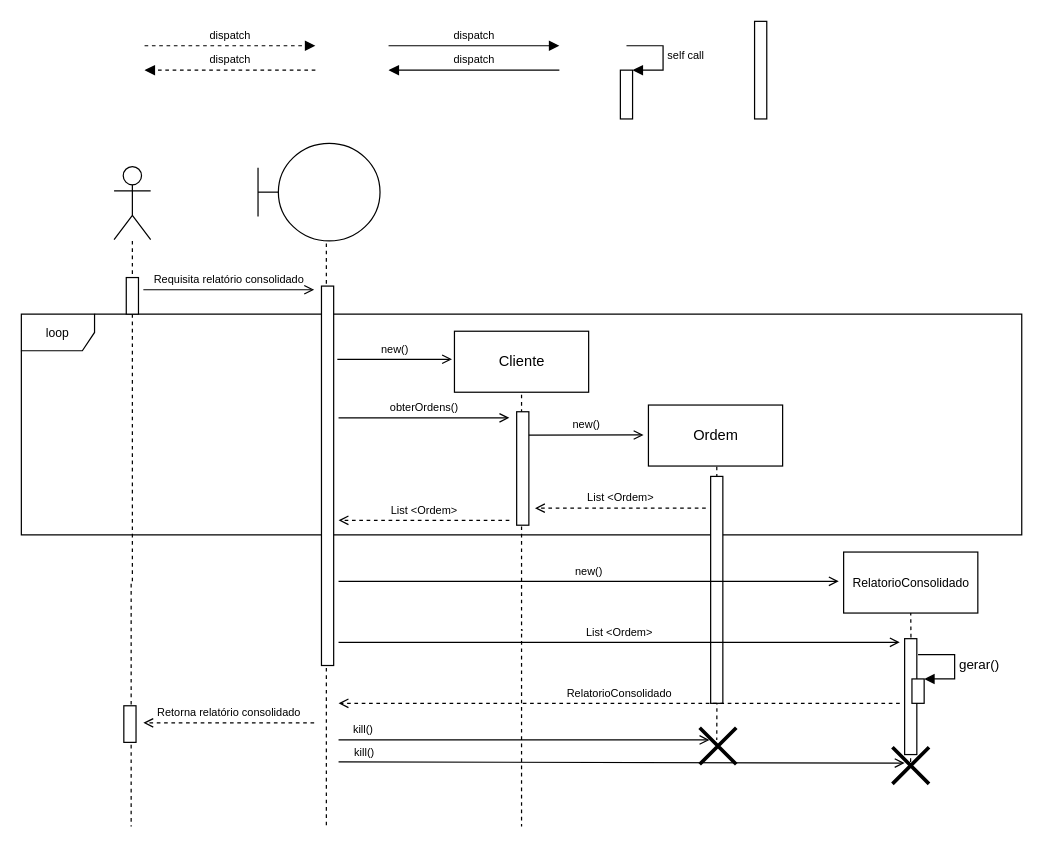
This 1043x849 diagram has some shape labels left out. Here are the shapes that lost their labels. From the top down, the centre of each, then its label:
the point at 132,202: Auditor
the point at 318,191: Menu
